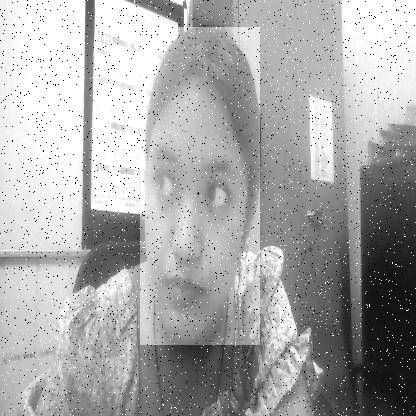Normal: (140, 27, 260, 345)
